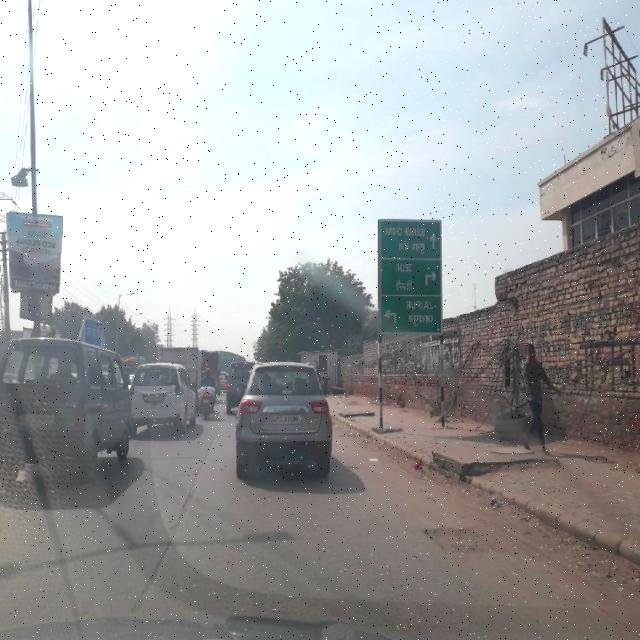D01: (139, 458, 208, 609)
D40: (419, 514, 518, 562)
